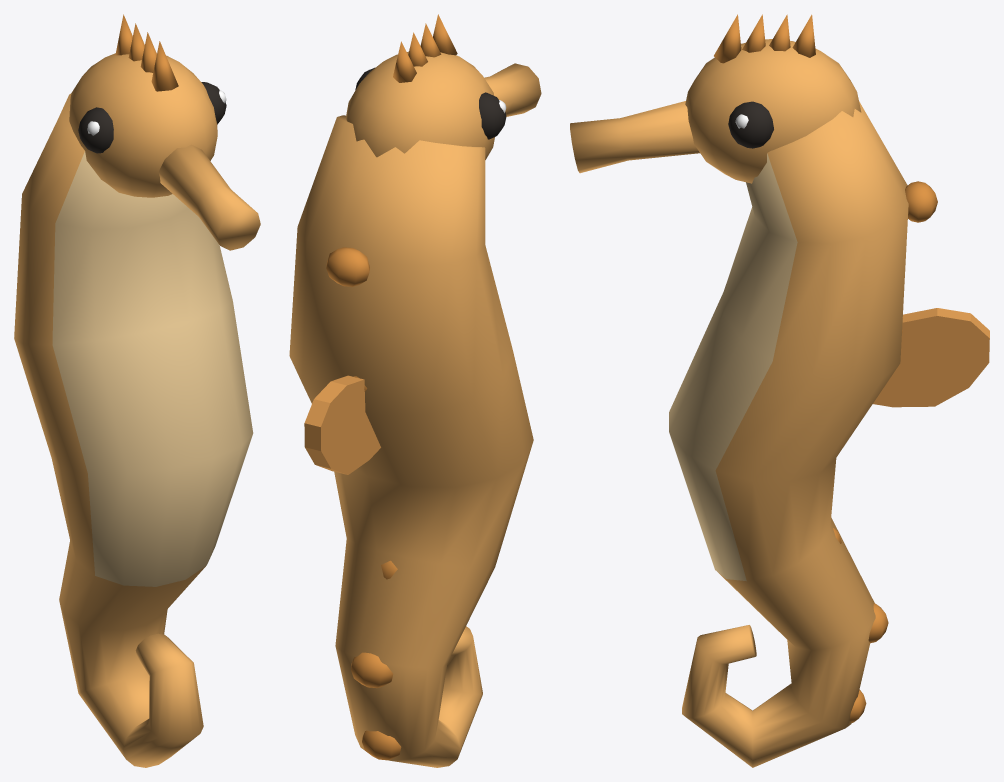
File: fish-seahorse.glb
3 views of the same model, side by side, from view 1: azimuth 30°, elevation 25°; view 2: azimuth 150°, elevation 25°; view 3: azimuth 270°, elevation 25° (orthographic). The views are drawn at different scales.
Visible parts, largest first — view 1: seahorse; view 2: seahorse; view 3: seahorse.
Part boxes in pixels (bbox=[...]): seahorse: bbox=[14, 14, 260, 767]; seahorse: bbox=[289, 14, 541, 767]; seahorse: bbox=[570, 14, 989, 767].
Size of the model in its own units: 0.0624 by 0.2177 by 0.1105.
